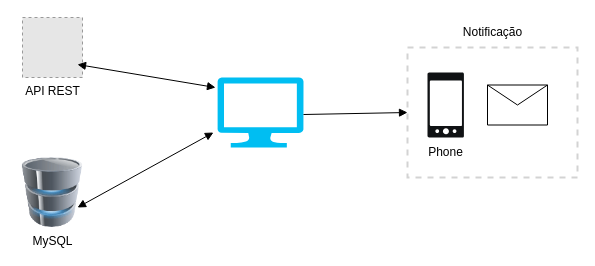
Some shapes in this 595 by 266 pixel diagram are drawn without their labels. Grey dashed boxes stand in for pictures. Each missing label, with the centre of its shape:
Computador: (260,112)
Email: (517,104)
